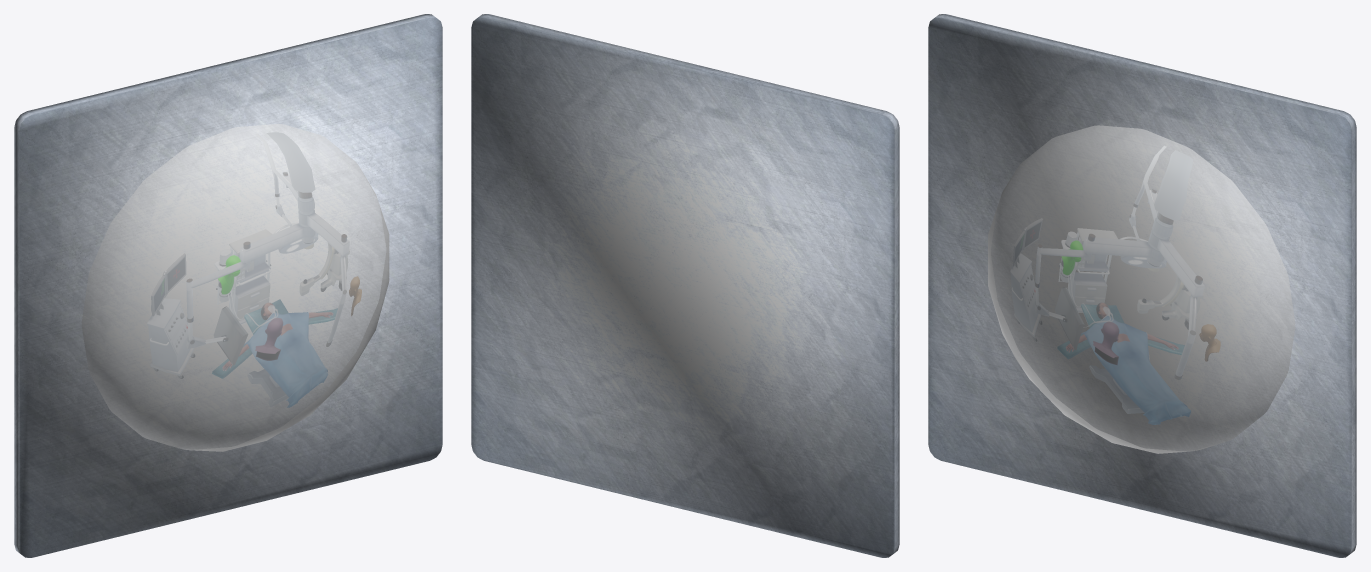
File: MenuIcon_FSNG.glb
3 renders of one model, left to right at view 1: azimuth 30°, elevation 25°; view 2: azimuth 150°, elevation 25°; view 3: azimuth 330°, elevation 25°, orthographic.
Visible parts, largest first — view 1: MenuIcon_Base_WellAware, MenuIcon_outer shell_WellAware, MenuIcon_inner shell_WellAware; view 2: MenuIcon_Base_WellAware; view 3: MenuIcon_Base_WellAware, MenuIcon_outer shell_WellAware, MenuIcon_inner shell_WellAware.
Boxes of the visible parts, x1,y1,x2,y2 form: MenuIcon_Base_WellAware: (14,14,442,557); MenuIcon_outer shell_WellAware: (81,124,389,451); MenuIcon_inner shell_WellAware: (147,132,361,407); MenuIcon_Base_WellAware: (471,14,899,557); MenuIcon_Base_WellAware: (928,14,1356,557); MenuIcon_outer shell_WellAware: (988,125,1295,453); MenuIcon_inner shell_WellAware: (1010,146,1220,424).
Size of the model in its own units: 1.24 by 1.24 by 0.2241.
3 materials, 2 textured.
